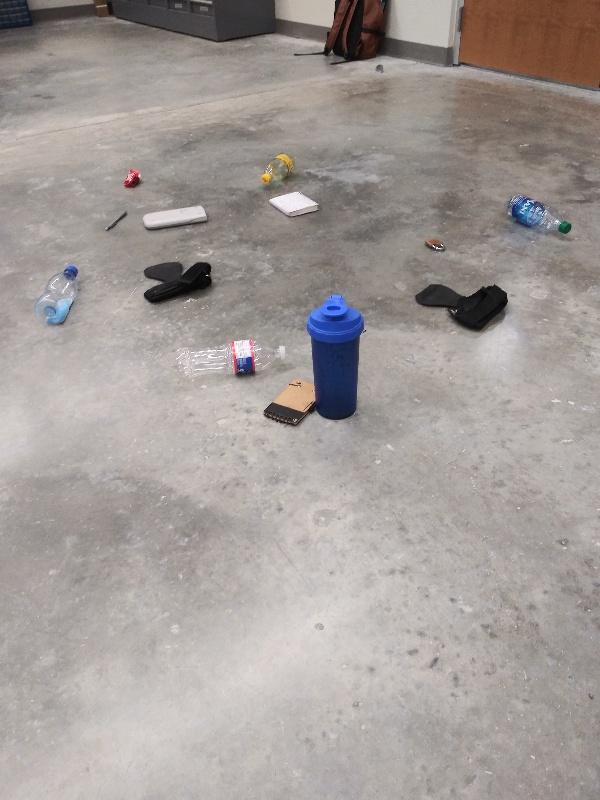bottle: (175, 339, 290, 384), (501, 191, 574, 239), (34, 263, 83, 331), (254, 149, 296, 192)
